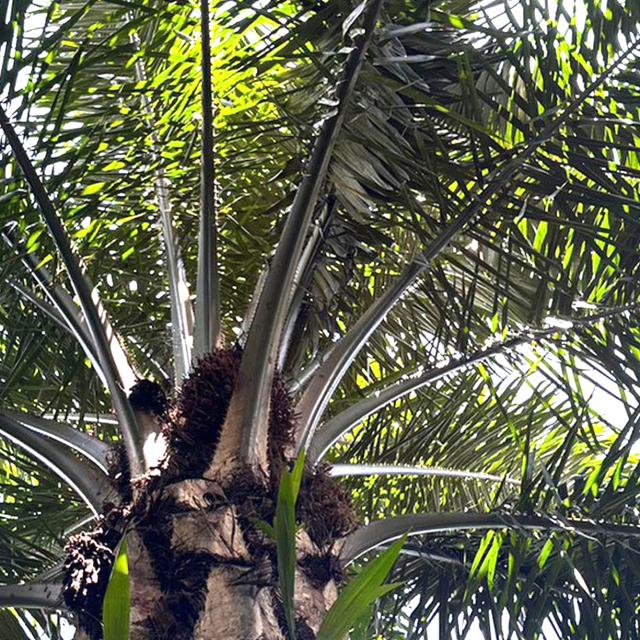ripe: (174, 347, 304, 478)
